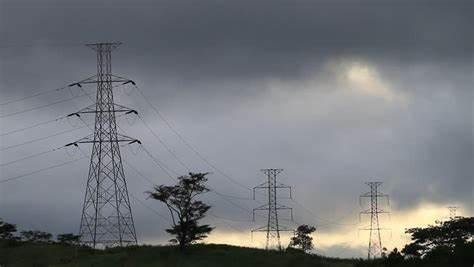power_tower: (75, 34, 145, 255), (248, 165, 297, 258), (347, 179, 398, 263)
